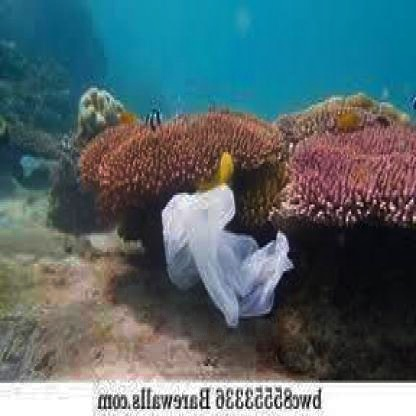pbag: (156, 180, 298, 330)
